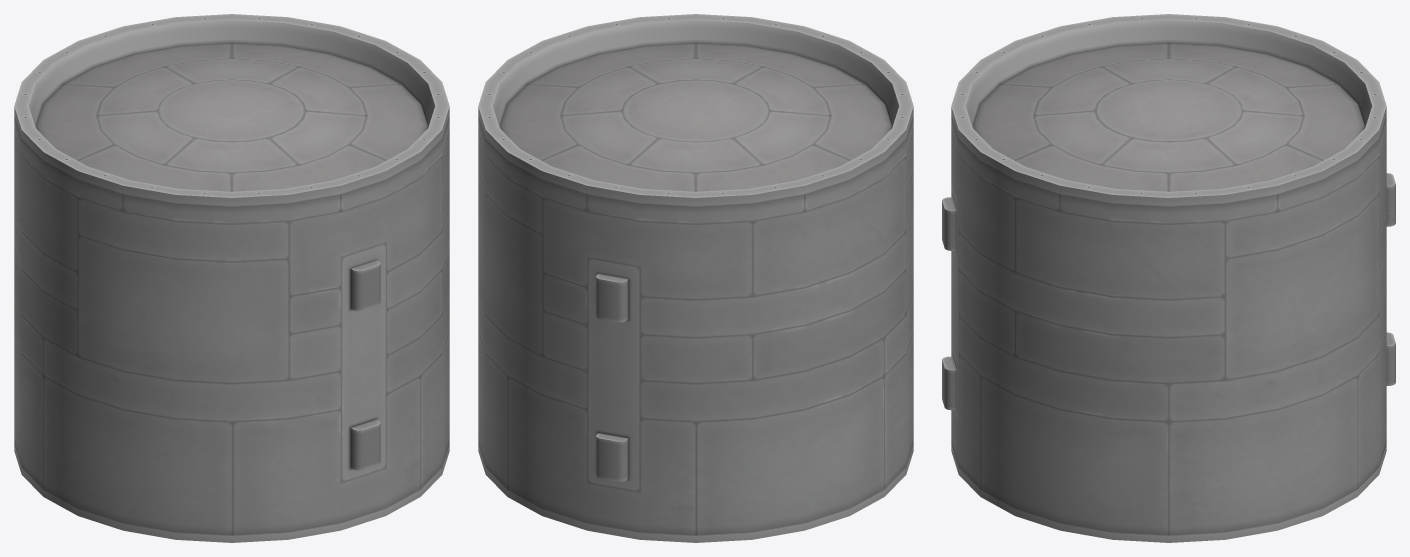
File: LLV_G_LFO_2.obj
3 renders of one model, left to right at view 1: azimuth 30°, elevation 25°; view 2: azimuth 150°, elevation 25°; view 3: azimuth 270°, elevation 25°, orthographic.
Visible parts, largest first — view 1: LLV_G_LFO_2; view 2: LLV_G_LFO_2; view 3: LLV_G_LFO_2.
Boxes of the visible parts, x1,y1,x2,y2 form: LLV_G_LFO_2: (14, 14, 449, 542); LLV_G_LFO_2: (478, 14, 913, 542); LLV_G_LFO_2: (942, 14, 1395, 542).
Size of the model in its own units: 1.88 by 1.64 by 1.95.
